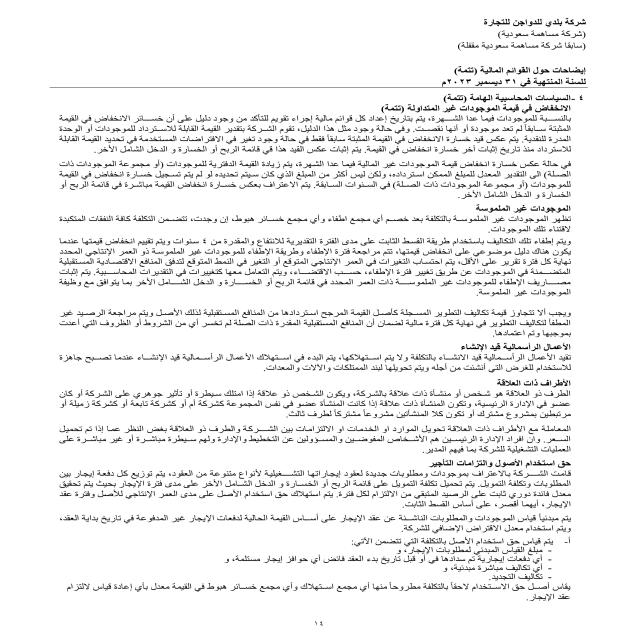notes: (446, 66, 592, 75)
text: (33, 86, 590, 618)
